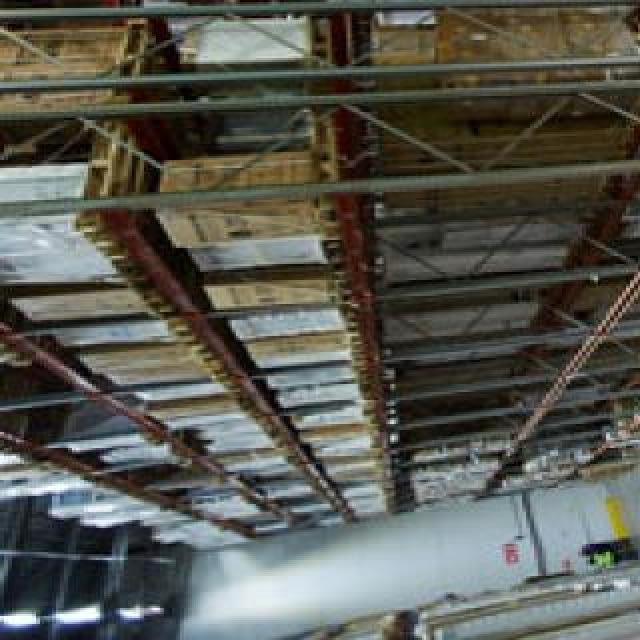fluorescent tube: (56, 583, 105, 634), (2, 596, 38, 636), (136, 589, 168, 624)
